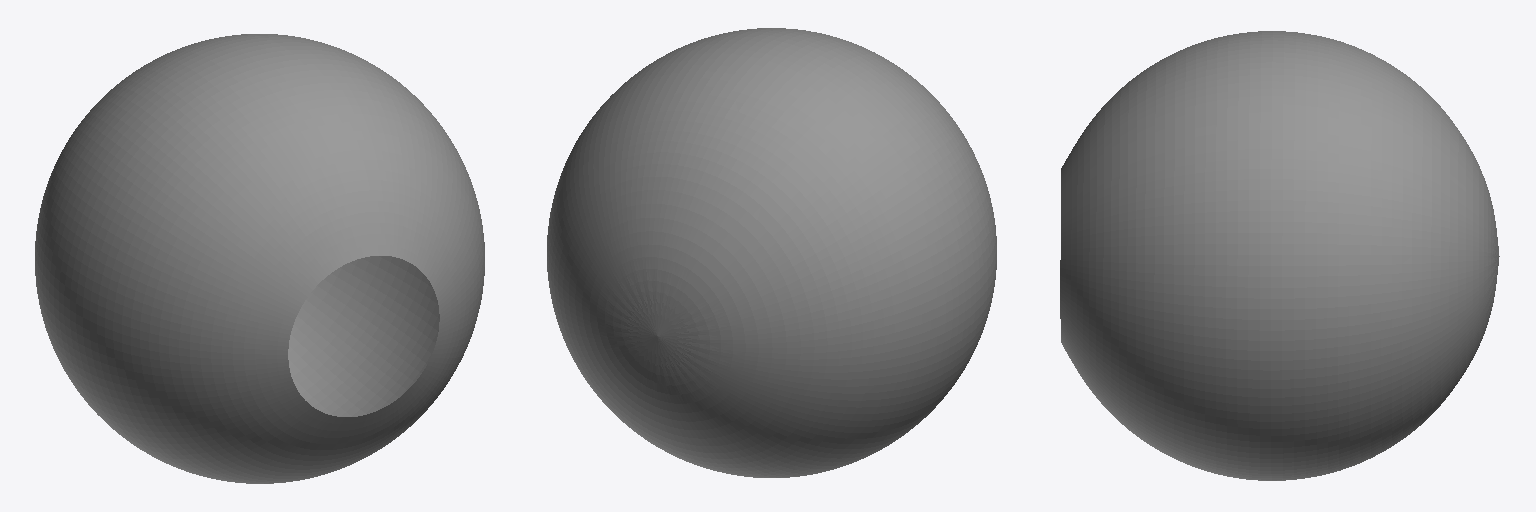
The model's file is eyeball_0.obj.
3 renders of one model, left to right at view 1: azimuth 30°, elevation 25°; view 2: azimuth 150°, elevation 25°; view 3: azimuth 270°, elevation 25°, orthographic.
Bounding box in the file's own units: 3.86 × 3.86 × 3.77.